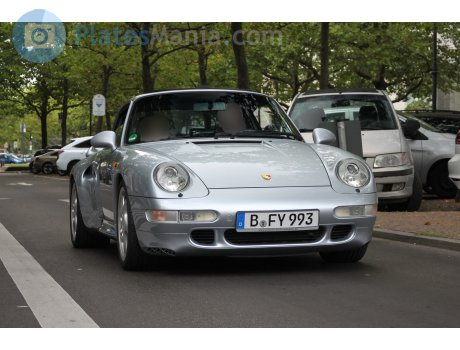License Plates: (247, 210, 313, 229)
